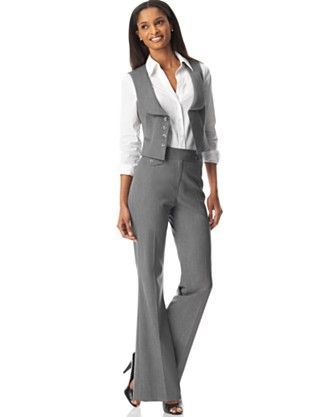feet: (113, 332, 188, 417)
